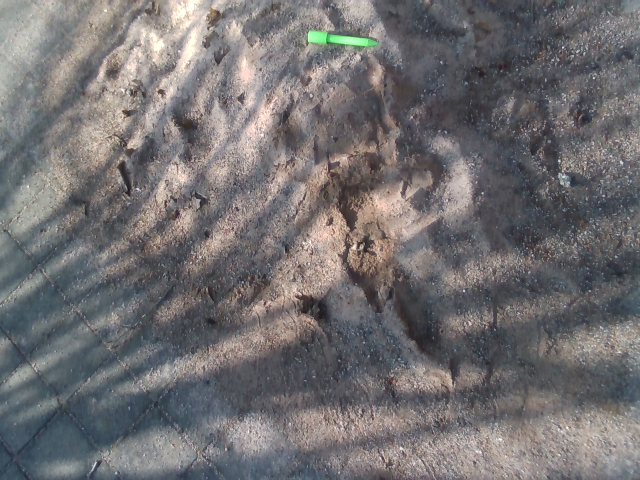Probe: (303, 27, 385, 51)
